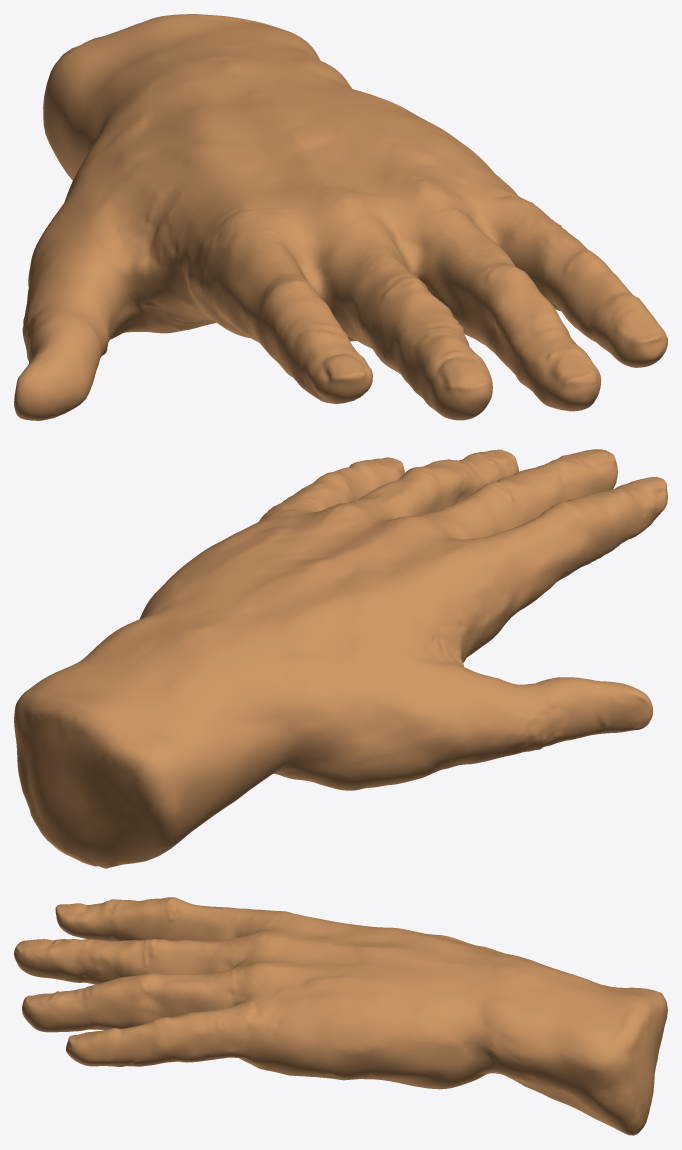
Rendered from left-hand.glb.
3 views of the same model, one above another, from view 1: azimuth 30°, elevation 25°; view 2: azimuth 150°, elevation 25°; view 3: azimuth 270°, elevation 25° (orthographic). The views are drawn at different scales.
Parts seen in each view (by area): view 1: Object_3, Object_4, Object_5; view 2: Object_3, Object_4, Object_5; view 3: Object_3, Object_4, Object_5.
Boxes of the visible parts, x1,y1,x2,y2 form: Object_3: (14, 14, 607, 420); Object_4: (61, 45, 667, 420); Object_5: (27, 14, 665, 417); Object_3: (14, 451, 652, 868); Object_4: (90, 449, 667, 790); Object_5: (14, 449, 657, 867); Object_3: (20, 901, 667, 1135); Object_4: (14, 897, 552, 1088); Object_5: (14, 897, 664, 1128).
Size of the model in its own units: 6.24 by 2.7 by 10.
